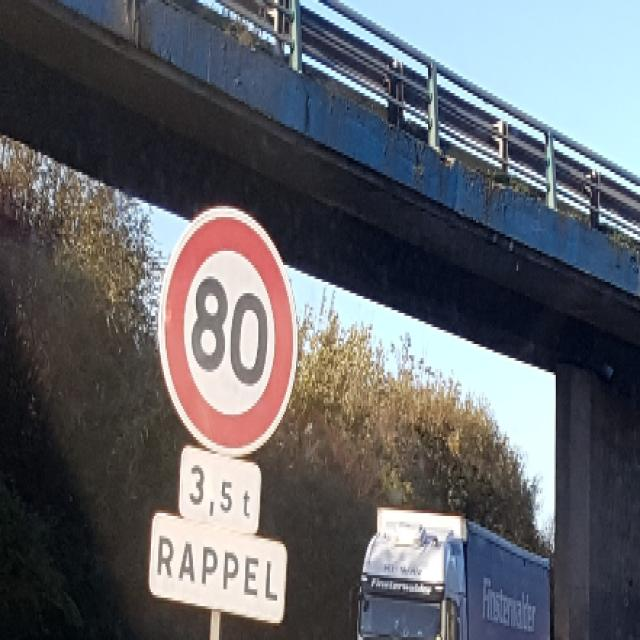speed_80: (157, 202, 300, 455)
